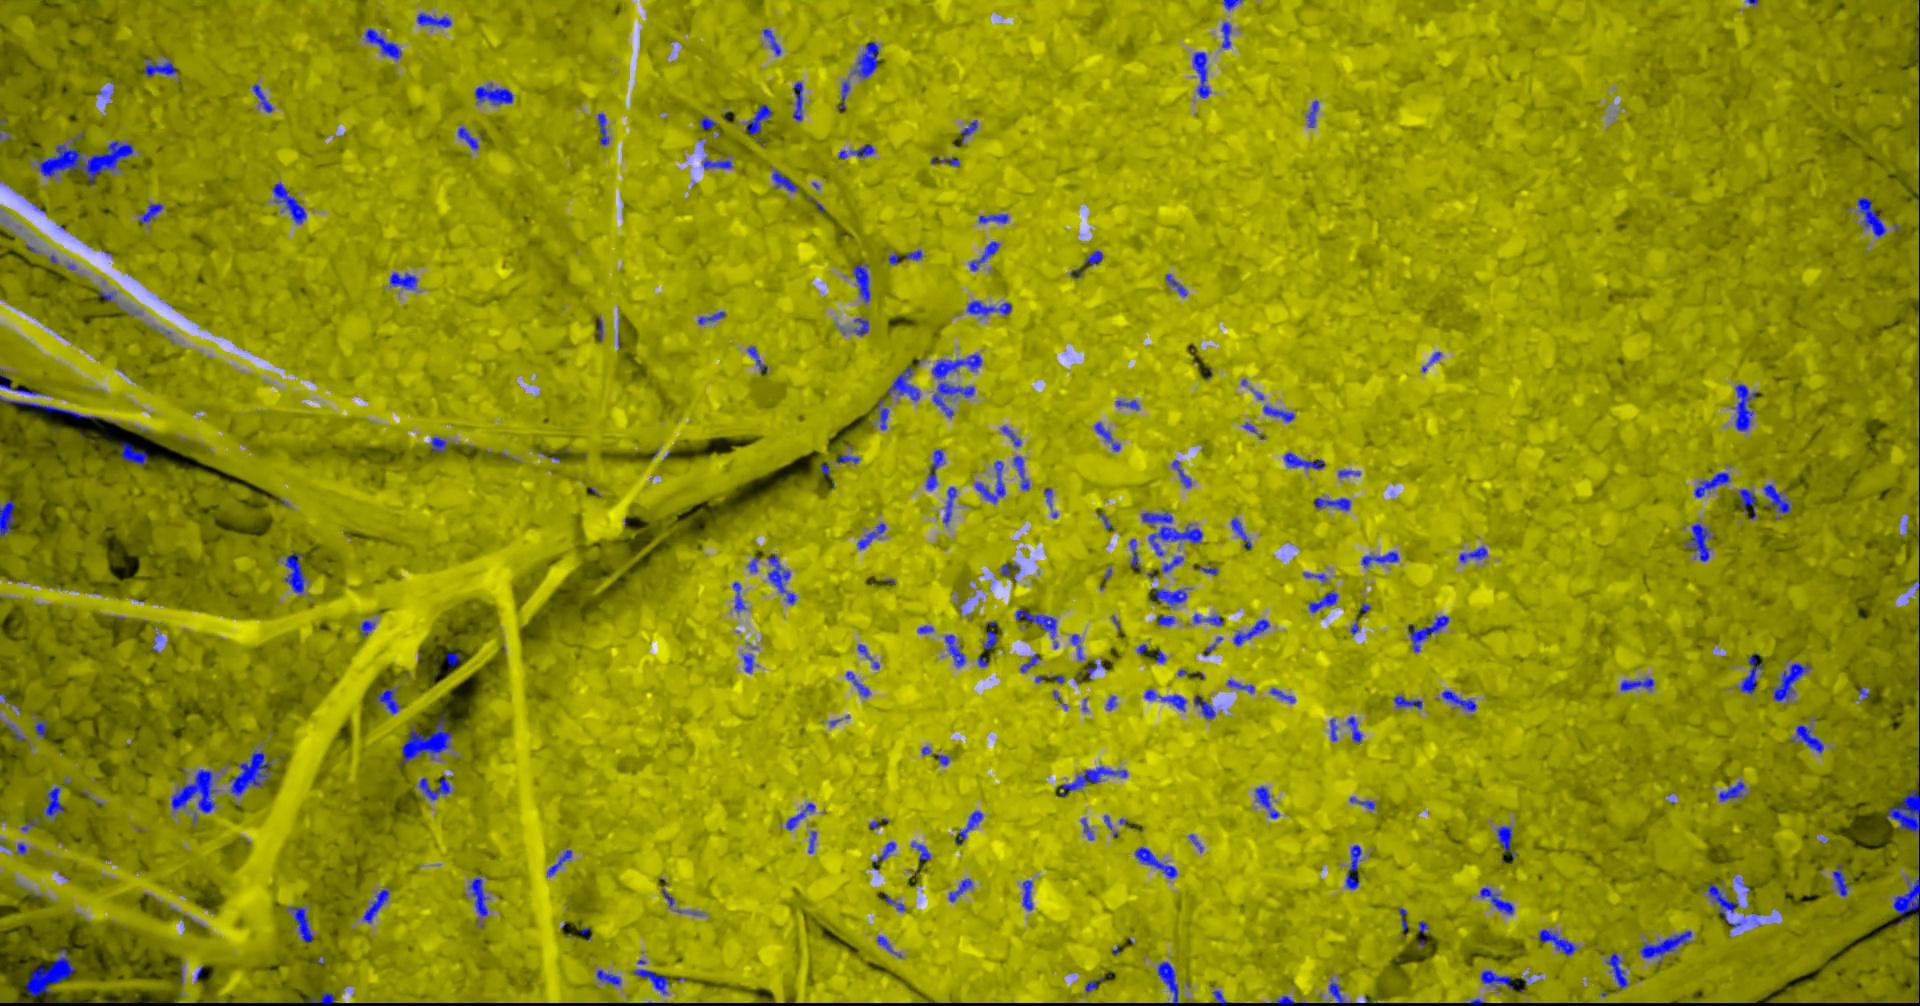ant: (933, 353, 983, 417), (403, 709, 455, 762), (1143, 511, 1204, 555), (27, 948, 76, 996), (1, 396, 100, 419), (1060, 766, 1129, 796), (171, 768, 218, 812), (231, 749, 274, 795), (1708, 882, 1743, 929), (770, 553, 797, 605), (1641, 930, 1693, 958), (1895, 878, 1920, 935), (1411, 615, 1450, 652), (1887, 789, 1920, 832), (274, 182, 307, 224), (1774, 663, 1810, 701), (1137, 846, 1178, 878), (977, 460, 1007, 503), (1017, 608, 1058, 638), (1858, 197, 1887, 236), (1735, 384, 1759, 431), (366, 28, 403, 58), (1, 368, 44, 394), (889, 366, 921, 400), (1689, 523, 1716, 561), (1540, 929, 1577, 955), (1741, 652, 1764, 694), (1145, 688, 1187, 711), (1790, 724, 1825, 752), (1481, 887, 1515, 915), (1765, 484, 1792, 520), (1236, 619, 1271, 645), (855, 41, 880, 77), (290, 906, 315, 942), (634, 969, 670, 995), (364, 888, 391, 922), (957, 810, 984, 843), (286, 553, 307, 593), (1159, 962, 1180, 1005), (971, 241, 1001, 271), (476, 83, 516, 104), (1256, 785, 1281, 818), (1697, 473, 1731, 497), (745, 104, 773, 133), (787, 801, 817, 829), (1194, 51, 1211, 97), (1095, 420, 1121, 451), (1608, 951, 1629, 988), (927, 448, 946, 489), (1443, 690, 1478, 711), (1482, 969, 1517, 991), (470, 876, 489, 916), (119, 441, 149, 466), (858, 523, 888, 549), (420, 777, 452, 800), (946, 634, 968, 667), (968, 300, 1013, 315), (1347, 843, 1363, 889), (855, 264, 872, 302), (377, 687, 403, 714), (549, 848, 573, 876), (1285, 452, 1326, 469), (46, 788, 66, 821), (1232, 517, 1253, 547), (145, 57, 179, 76), (874, 841, 897, 869), (1156, 588, 1189, 607), (847, 671, 871, 696), (1498, 826, 1517, 857), (748, 345, 770, 373), (1310, 591, 1338, 612), (254, 83, 274, 112), (1015, 455, 1031, 490), (1834, 862, 1851, 895), (1, 499, 17, 537), (1740, 488, 1757, 520), (1363, 551, 1399, 567), (950, 878, 974, 901), (877, 935, 903, 956), (773, 170, 800, 191), (1719, 781, 1746, 801), (1173, 459, 1192, 486), (943, 486, 957, 525), (841, 144, 875, 159), (1316, 497, 1352, 511), (1263, 405, 1297, 420), (418, 11, 453, 25), (458, 126, 480, 149), (1167, 273, 1189, 296), (1195, 695, 1217, 718), (140, 203, 164, 224), (764, 28, 782, 55), (391, 272, 418, 290), (1330, 981, 1349, 1005), (1622, 677, 1656, 690), (884, 892, 907, 911), (1462, 546, 1490, 561), (1003, 426, 1023, 446), (985, 620, 999, 649), (963, 119, 979, 144), (1228, 680, 1256, 694), (794, 81, 804, 119), (734, 580, 747, 611), (1271, 687, 1297, 702), (1349, 716, 1364, 742), (1021, 654, 1043, 672), (310, 991, 337, 1005), (698, 311, 728, 324), (598, 969, 622, 984), (879, 398, 890, 429), (1194, 614, 1225, 625), (913, 841, 932, 860), (1163, 555, 1185, 572), (1396, 695, 1423, 708), (1308, 100, 1321, 127), (1072, 633, 1084, 659), (703, 158, 733, 169), (1130, 539, 1142, 568), (599, 113, 610, 145), (1351, 796, 1377, 809), (839, 81, 851, 109), (1086, 250, 1103, 268), (1222, 22, 1233, 48), (932, 156, 961, 166), (980, 213, 1010, 224), (1023, 880, 1034, 909), (1399, 907, 1410, 936), (1082, 817, 1095, 840), (433, 436, 450, 452), (855, 318, 870, 335), (448, 652, 463, 669), (1213, 989, 1230, 1005), (36, 719, 50, 737), (23, 817, 41, 831), (1087, 977, 1105, 991), (837, 453, 861, 464), (1002, 563, 1021, 575), (701, 116, 717, 130), (905, 249, 924, 260), (1304, 572, 1328, 580), (362, 620, 376, 635), (1117, 400, 1140, 409), (1338, 469, 1361, 478), (744, 654, 756, 672), (1225, 0, 1244, 10), (1277, 995, 1297, 1005), (1159, 614, 1176, 625), (749, 556, 761, 572), (1331, 718, 1338, 741), (809, 831, 817, 854), (1919, 11, 1920, 67)
